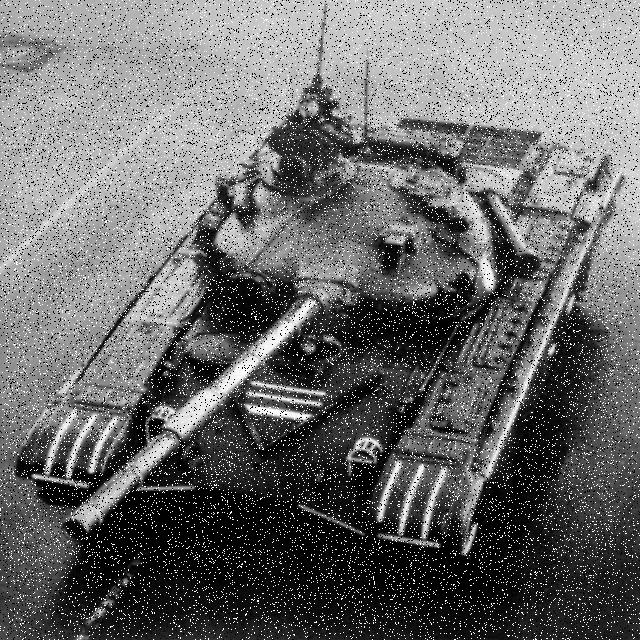MIL_MBT: (7, 79, 618, 624)
